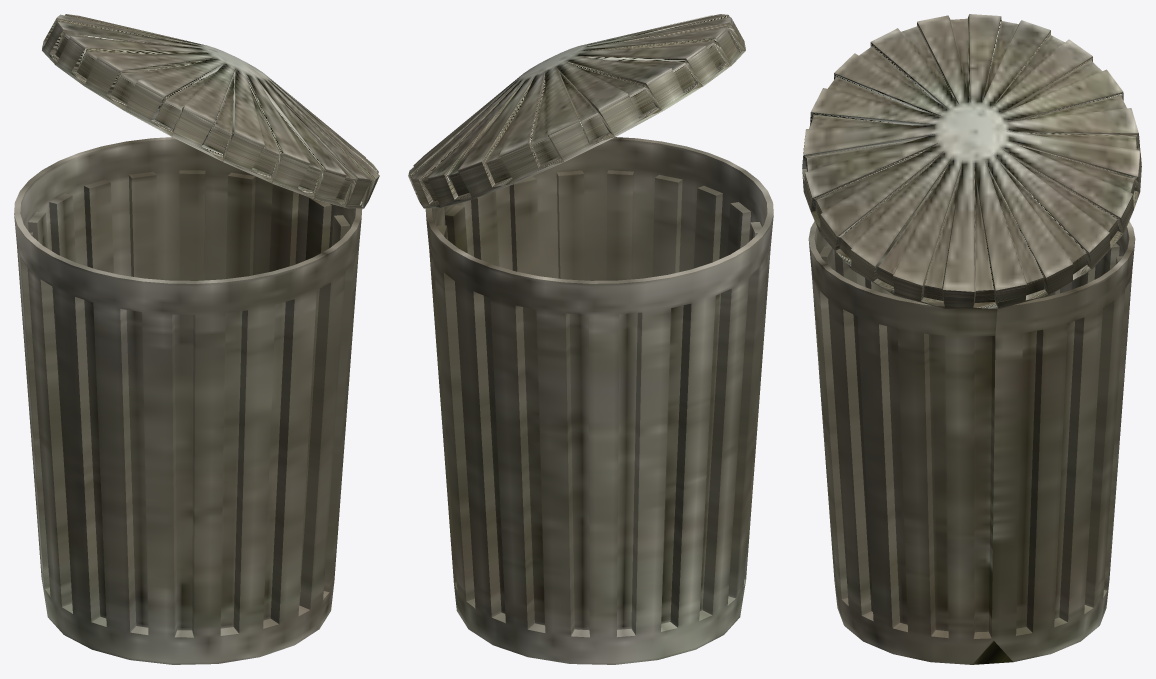
File: trash-can-rusty.glb
3 renders of one model, left to right at view 1: azimuth 30°, elevation 25°; view 2: azimuth 150°, elevation 25°; view 3: azimuth 270°, elevation 25°, orthographic. The views are drawn at different scales.
Visible parts, largest first — view 1: Object_2; view 2: Object_2; view 3: Object_2.
Boxes of the visible parts, x1,y1,x2,y2 form: Object_2: (14,14,379,664); Object_2: (408,14,773,664); Object_2: (802,14,1141,664).
Size of the model in its own units: 0.4242 by 0.75 by 0.4226.
Materials: 1 (1 with a texture image).
